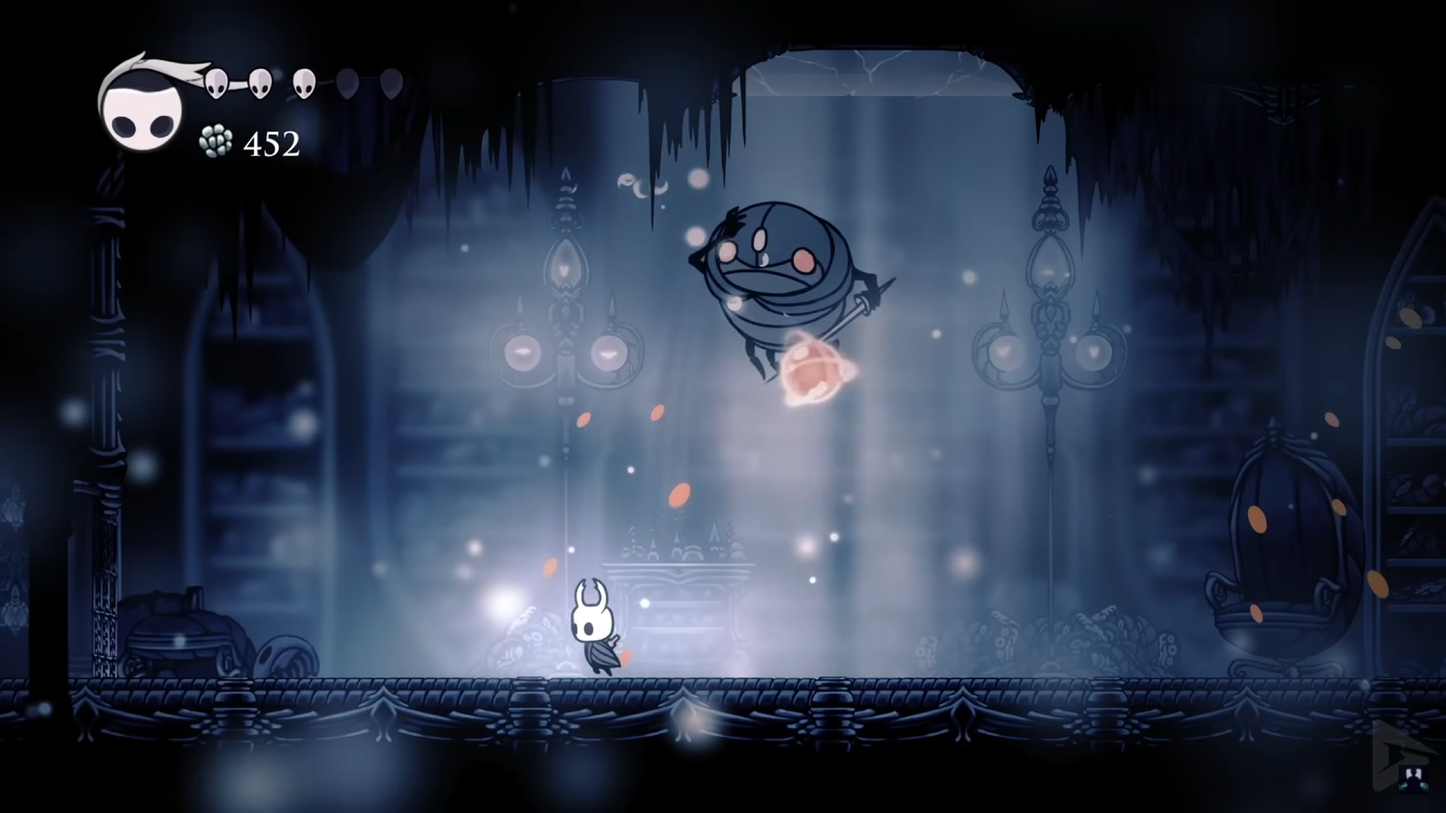HK: (565, 577, 627, 680)
